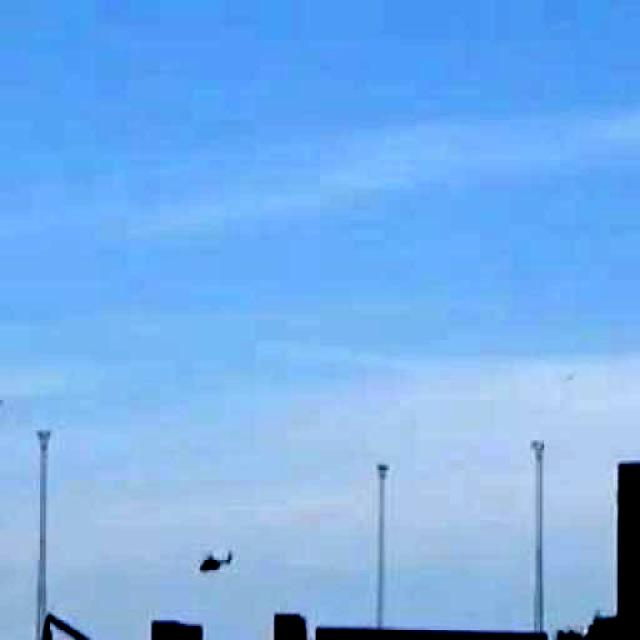drone: (171, 529, 249, 592)
